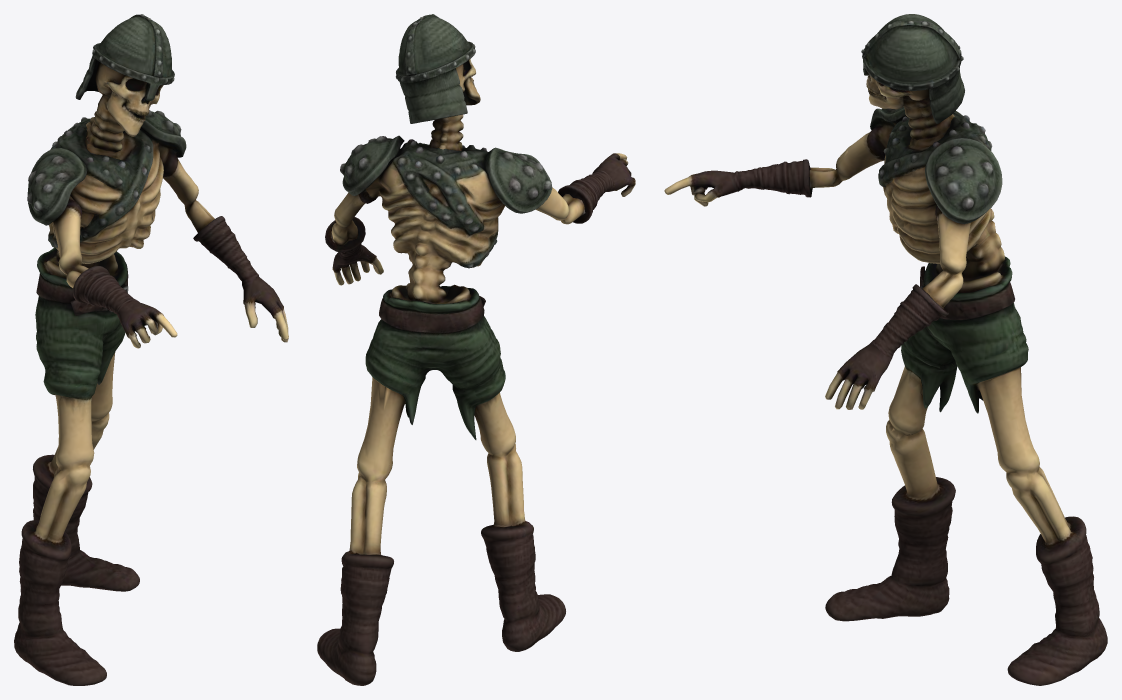
File: MZ4250 - Skeleton.glb
3 views of the same model, side by side, from view 1: azimuth 30°, elevation 25°; view 2: azimuth 150°, elevation 25°; view 3: azimuth 270°, elevation 25° (orthographic). The views are drawn at different scales.
Parts seen in each view (by area): view 1: Skeleton Updated_shambling2.001; view 2: Skeleton Updated_shambling2.001; view 3: Skeleton Updated_shambling2.001.
Part boxes in pixels (x1,y1,x2,y2): Skeleton Updated_shambling2.001: (14, 14, 288, 685); Skeleton Updated_shambling2.001: (317, 14, 635, 685); Skeleton Updated_shambling2.001: (664, 14, 1107, 685).
Size of the model in its own units: 36.39 by 90.79 by 56.48.
Materials: 1 (1 with a texture image).
